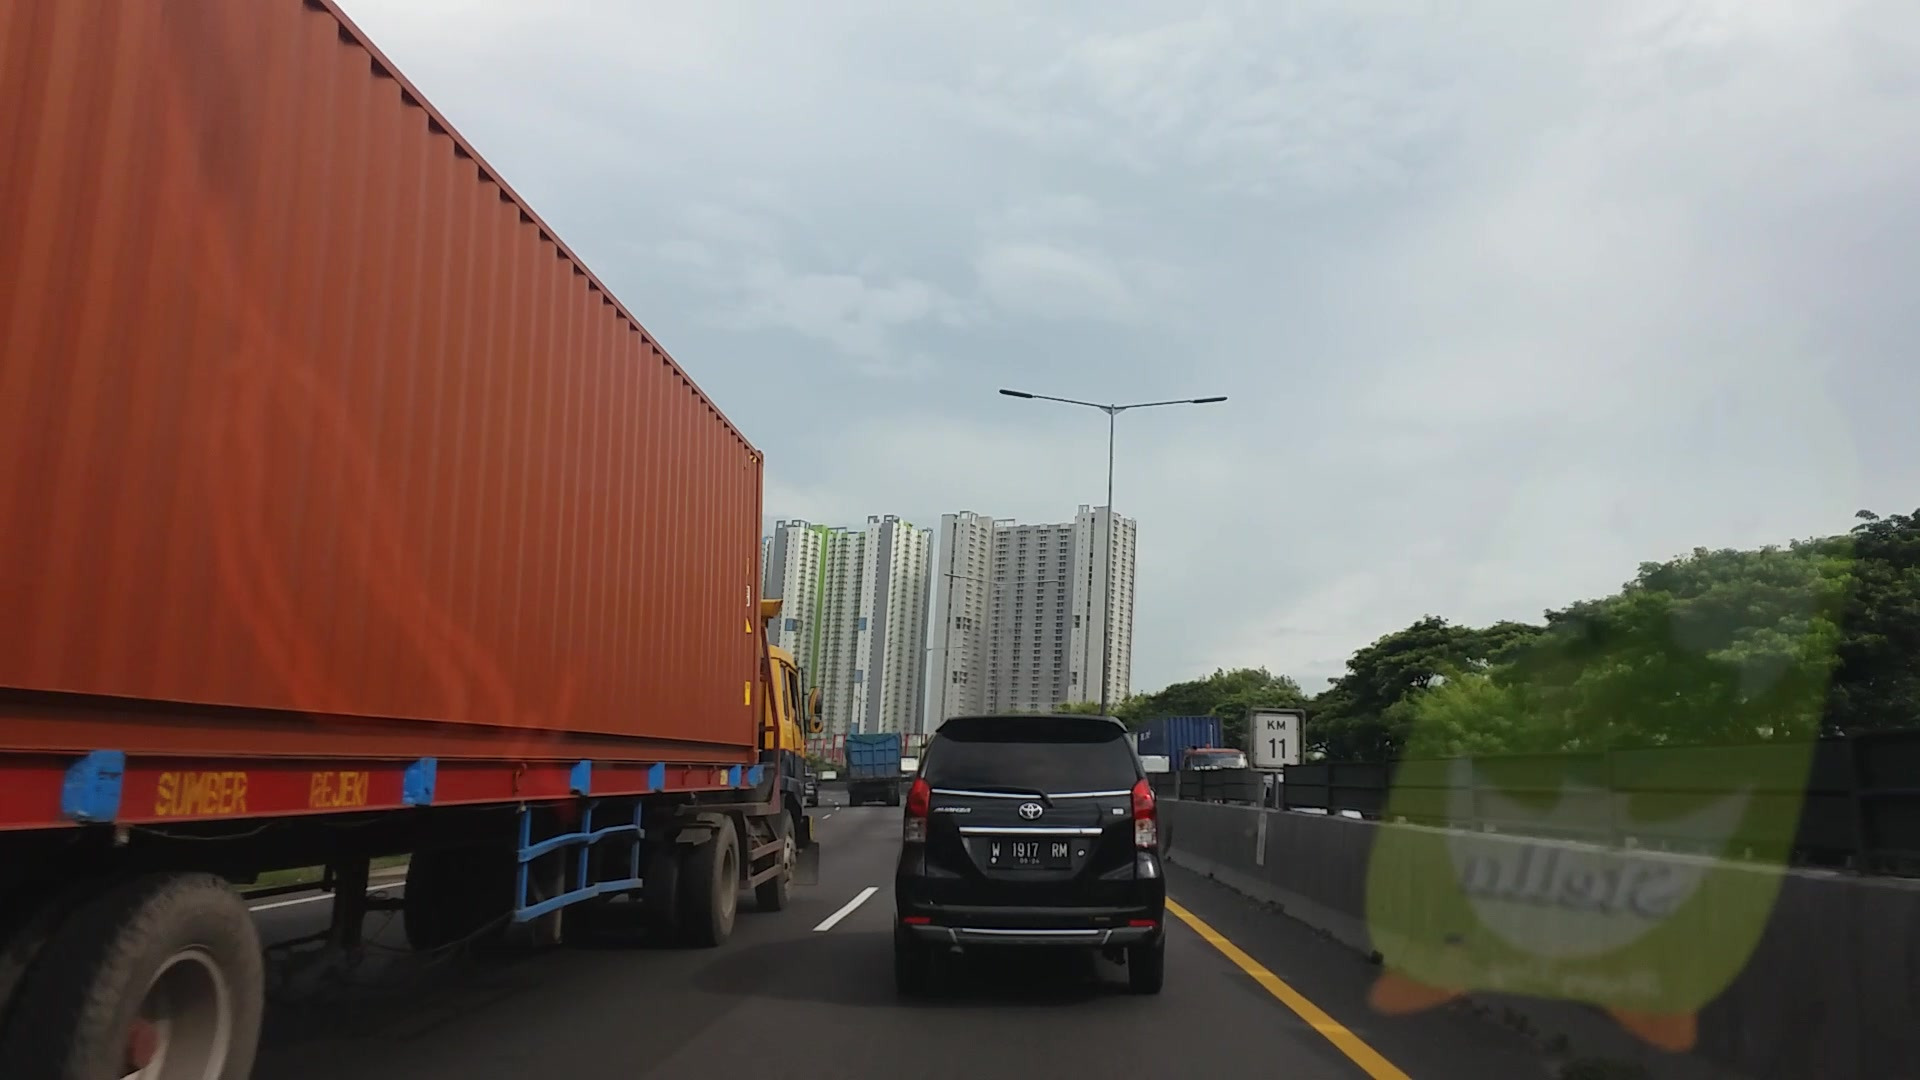plate_positive: (986, 836, 1069, 868)
